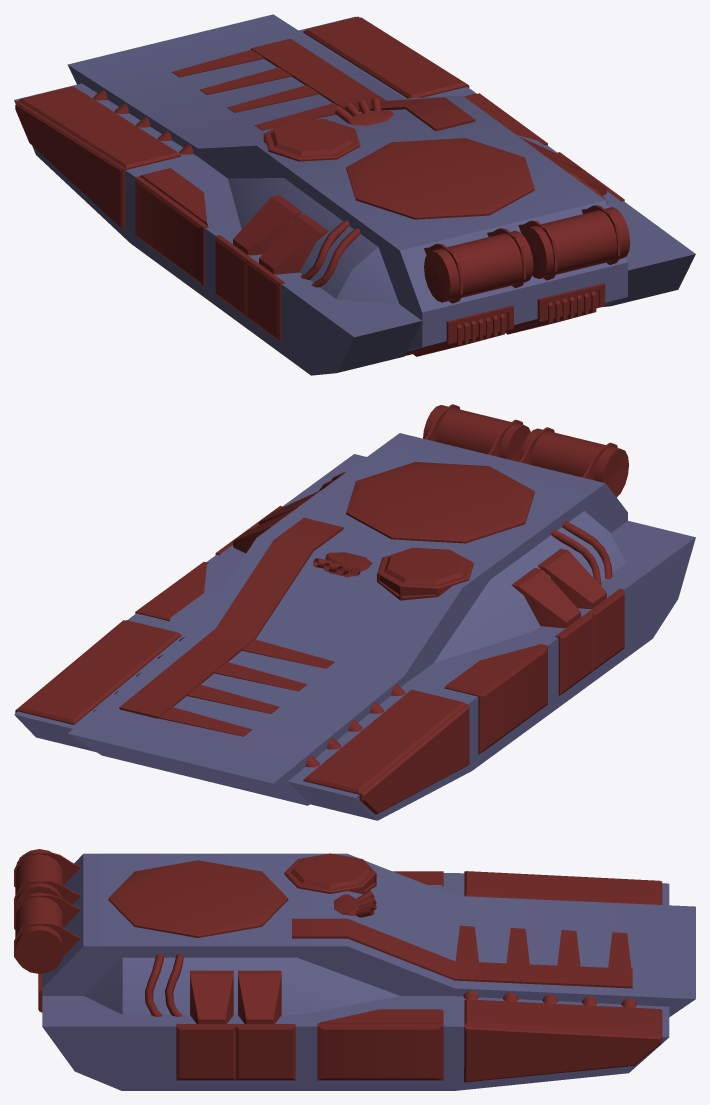
File: DominatorBody.fbx
3 views of the same model, one above another, from view 1: azimuth 30°, elevation 25°; view 2: azimuth 150°, elevation 25°; view 3: azimuth 270°, elevation 25° (orthographic). The views are drawn at different scales.
Parts seen in each view (by area): view 1: Parts1, Body1; view 2: Body1, Parts1; view 3: Body1, Parts1.
Boxes of the visible parts, x1=… form: Parts1: x1=15, y1=16, x2=630, y2=356; Body1: x1=14, y1=14, x2=695, y2=375; Body1: x1=14, y1=433, x2=695, y2=820; Parts1: x1=15, y1=404, x2=628, y2=814; Body1: x1=42, y1=853, x2=695, y2=1090; Parts1: x1=14, y1=849, x2=662, y2=1082.
Bounding box in the file's own units: 3.39 × 1.3 × 6.23.
